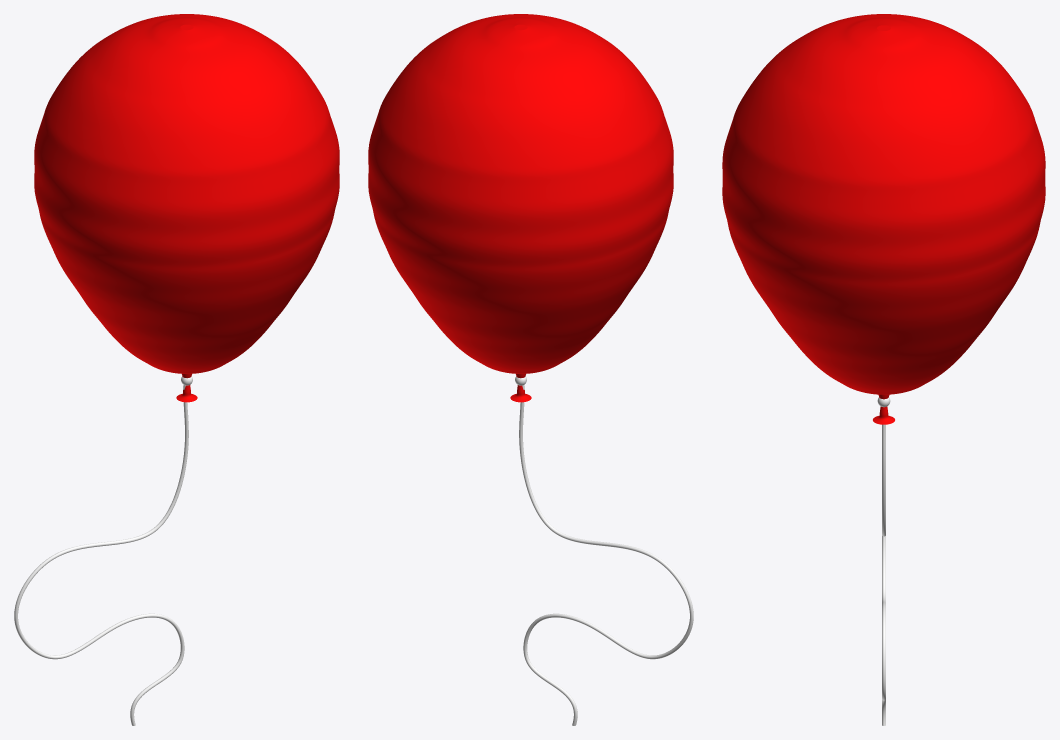
The model's file is helium.dae.
3 renders of one model, left to right at view 1: azimuth 30°, elevation 25°; view 2: azimuth 150°, elevation 25°; view 3: azimuth 270°, elevation 25°, orthographic. The views are drawn at different scales.
Size of the model in its own units: 0.2653 by 0.5695 by 0.2303.
